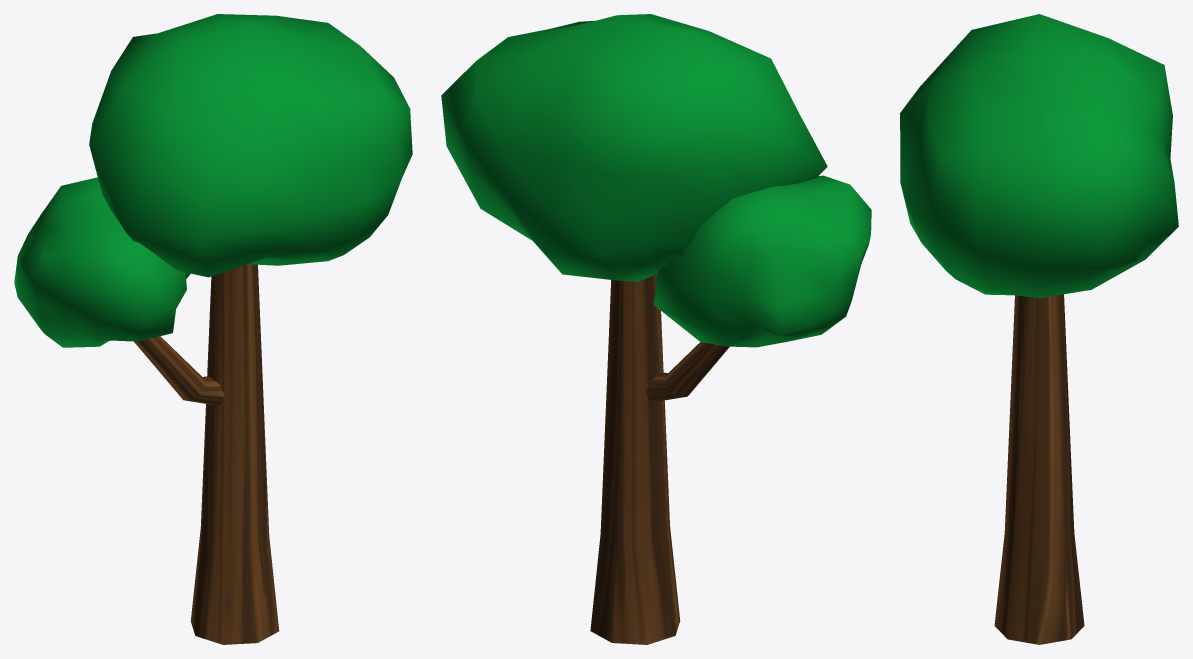
File: tree.fbx
3 renders of one model, left to right at view 1: azimuth 30°, elevation 25°; view 2: azimuth 150°, elevation 25°; view 3: azimuth 270°, elevation 25°, orthographic. The views are drawn at different scales.
Parts seen in each view (by area): view 1: Cylinder; view 2: Cylinder; view 3: Cylinder.
Boxes of the visible parts, x1,y1,x2,y2 form: Cylinder: (14,14,412,644); Cylinder: (441,14,871,644); Cylinder: (900,14,1178,644).
Size of the model in its own units: 249 by 383 by 165.
